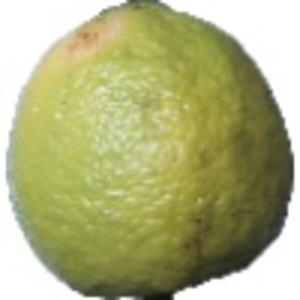limão: (6, 1, 294, 300)
